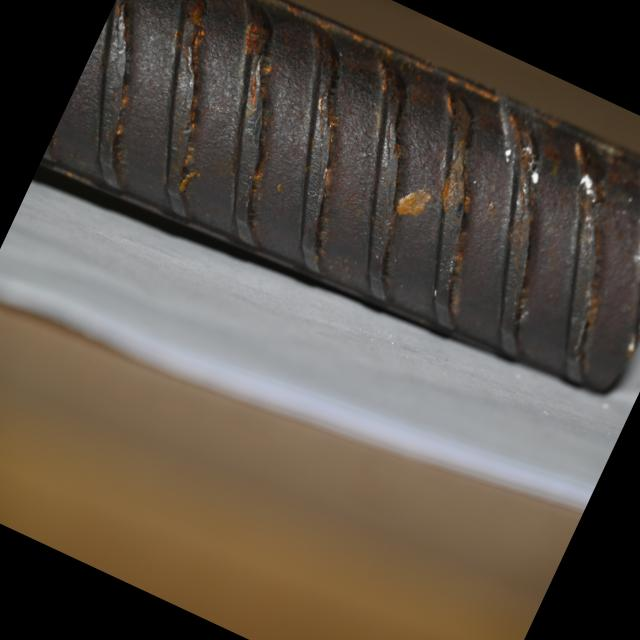ribbed bar: (35, 0, 640, 441)
